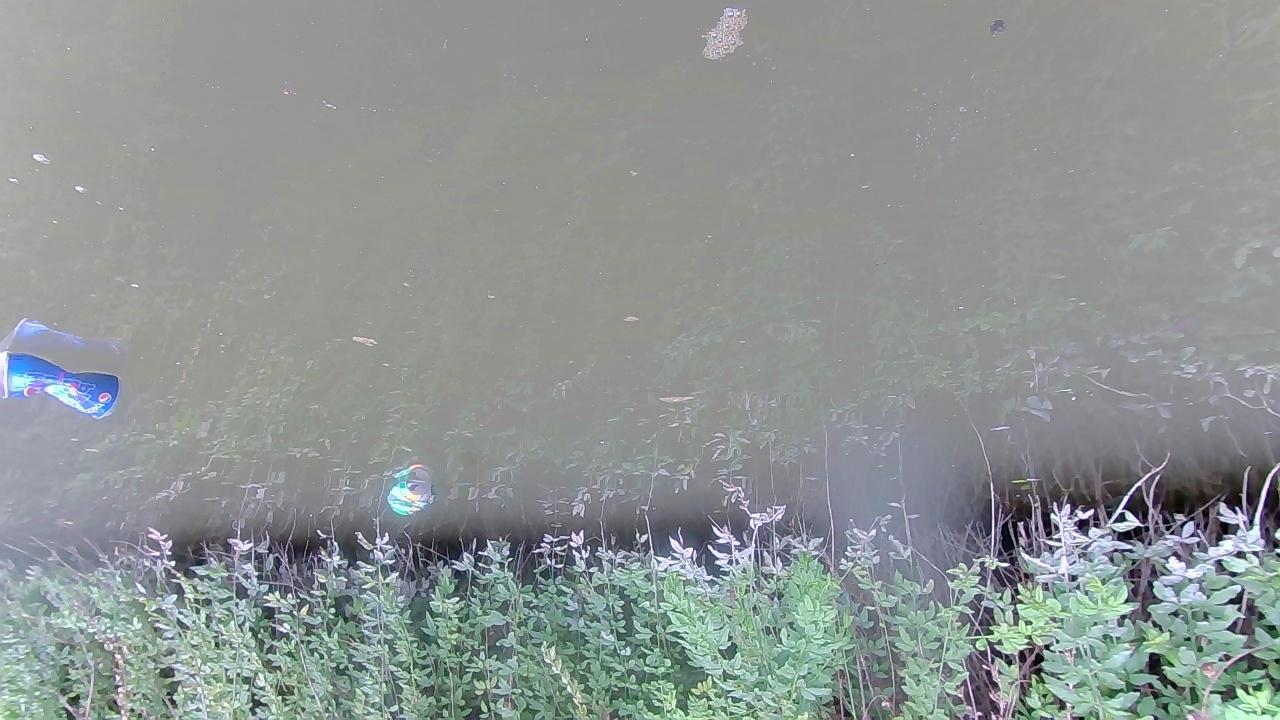Metal: (6, 352, 121, 425), (386, 465, 438, 522)
